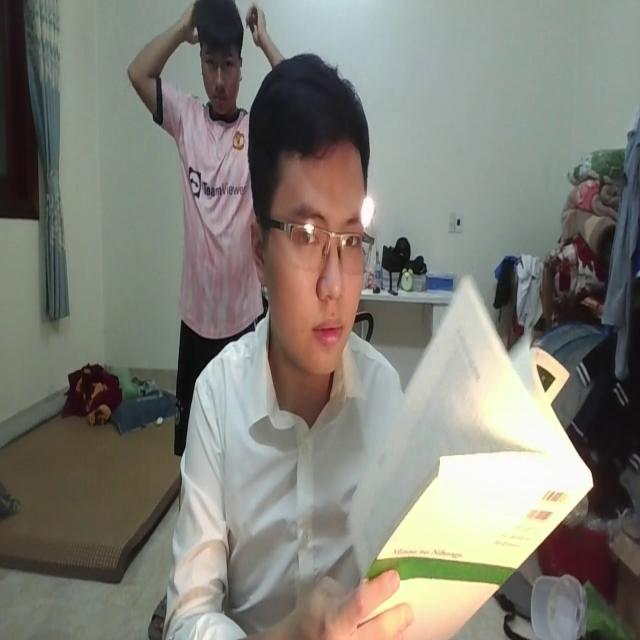book: (349, 271, 591, 640)
extra_person: (127, 5, 287, 378)
student: (168, 37, 406, 640)
